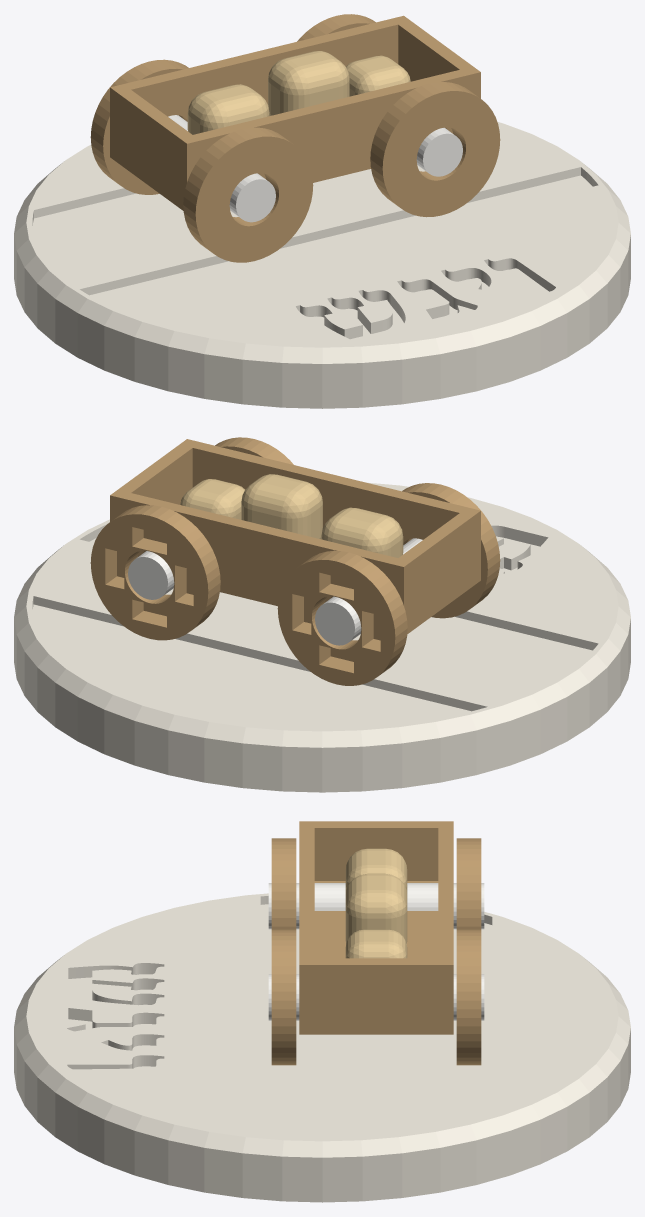
Rendered from vayigash.glb.
The picture shows the model from 3 angles, top to bottom: view 1: azimuth 30°, elevation 25°; view 2: azimuth 150°, elevation 25°; view 3: azimuth 270°, elevation 25°; orthographic projection.
Parts seen in each view (by area): view 1: stage, wagon, wheel-1, wheel-2, load, wheel-3, axle-1, axle-2, wheel-4; view 2: stage, wagon, wheel-4, wheel-3, load, wheel-1, axle-1, axle-2, wheel-2; view 3: stage, wagon, load, wheel-2, wheel-4, axle-1, wheel-1, wheel-3, axle-2.
Part boxes in pixels (box(x1,y1,x2,y2)): stage: box(14, 122, 630, 408); wagon: box(110, 15, 480, 210); wheel-1: box(183, 127, 313, 262); wheel-2: box(370, 82, 500, 217); load: box(187, 51, 410, 134); wheel-3: box(90, 59, 188, 194); axle-1: box(168, 115, 275, 222); axle-2: box(416, 127, 462, 176); wheel-4: box(297, 14, 375, 41); stage: box(14, 482, 630, 792); wagon: box(110, 439, 480, 633); wheel-4: box(90, 505, 220, 640); wheel-3: box(277, 550, 407, 685); load: box(180, 474, 403, 557); wheel-1: box(402, 483, 500, 618); axle-1: box(315, 538, 422, 645); axle-2: box(128, 551, 174, 599); wheel-2: box(215, 437, 293, 464); stage: box(14, 893, 630, 1202); wagon: box(299, 821, 453, 1034); load: box(345, 848, 407, 958); wheel-2: box(271, 929, 296, 1065); wheel-4: box(456, 929, 481, 1065); axle-1: box(268, 883, 484, 929); wheel-1: box(271, 838, 296, 929); wheel-3: box(456, 838, 481, 929); axle-2: box(268, 974, 484, 1020).
Bounding box in the file's own units: 40 × 14 × 40.
